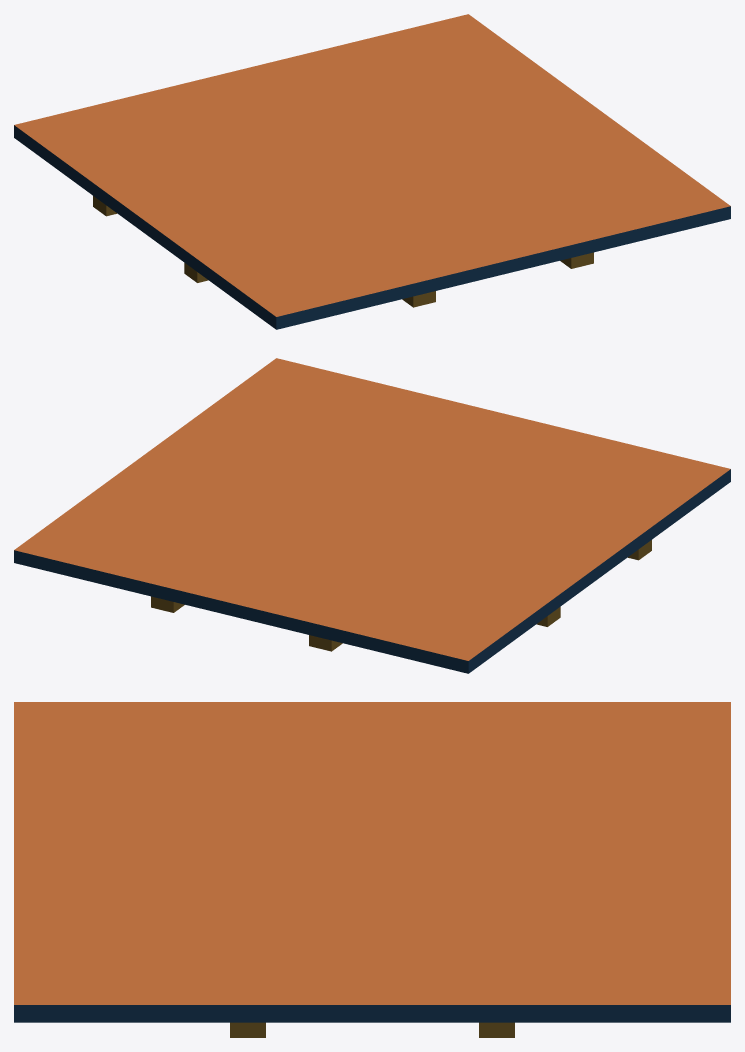
Rendered from Floor.fbx.
3 renders of one model, top to bottom at view 1: azimuth 30°, elevation 25°; view 2: azimuth 150°, elevation 25°; view 3: azimuth 270°, elevation 25°, orthographic. The views are drawn at different scales.
Parts seen in each view (by area): view 1: pCube136; view 2: pCube136; view 3: pCube136.
Part boxes in pixels (x1,y1,x2,y2): pCube136: (14, 14, 730, 329); pCube136: (14, 358, 730, 673); pCube136: (14, 702, 730, 1037).
Size of the model in its own units: 3 by 0.151 by 3.
